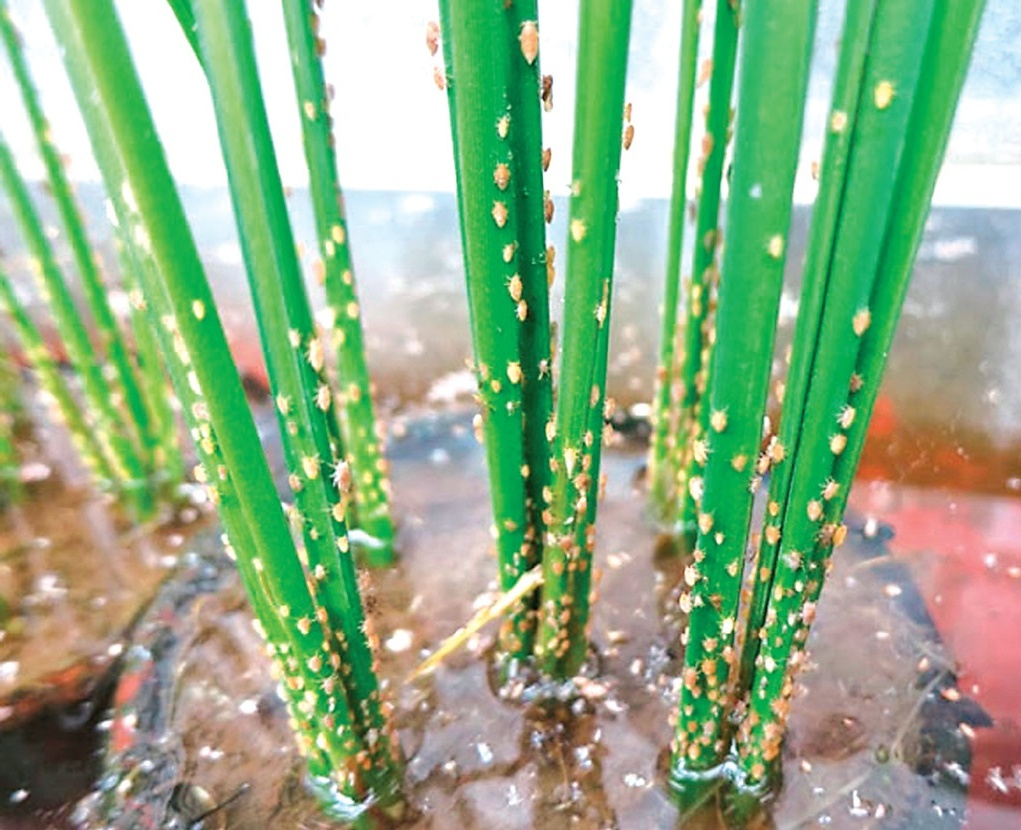Brown_hopper: (515, 22, 549, 70), (307, 330, 329, 378), (616, 121, 641, 158), (847, 306, 876, 337), (331, 533, 361, 559), (308, 387, 338, 412), (299, 455, 327, 481), (824, 434, 854, 457), (492, 197, 511, 233), (423, 18, 437, 66), (290, 615, 320, 637), (831, 527, 853, 555), (875, 79, 892, 114), (197, 432, 219, 456), (822, 472, 834, 505), (710, 407, 727, 430), (515, 296, 523, 331), (704, 664, 722, 677)
